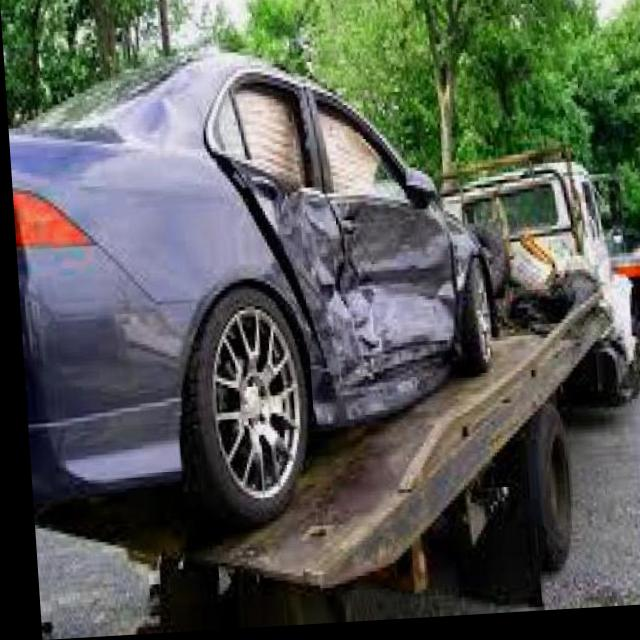Car-Damage: (50, 45, 463, 441)
